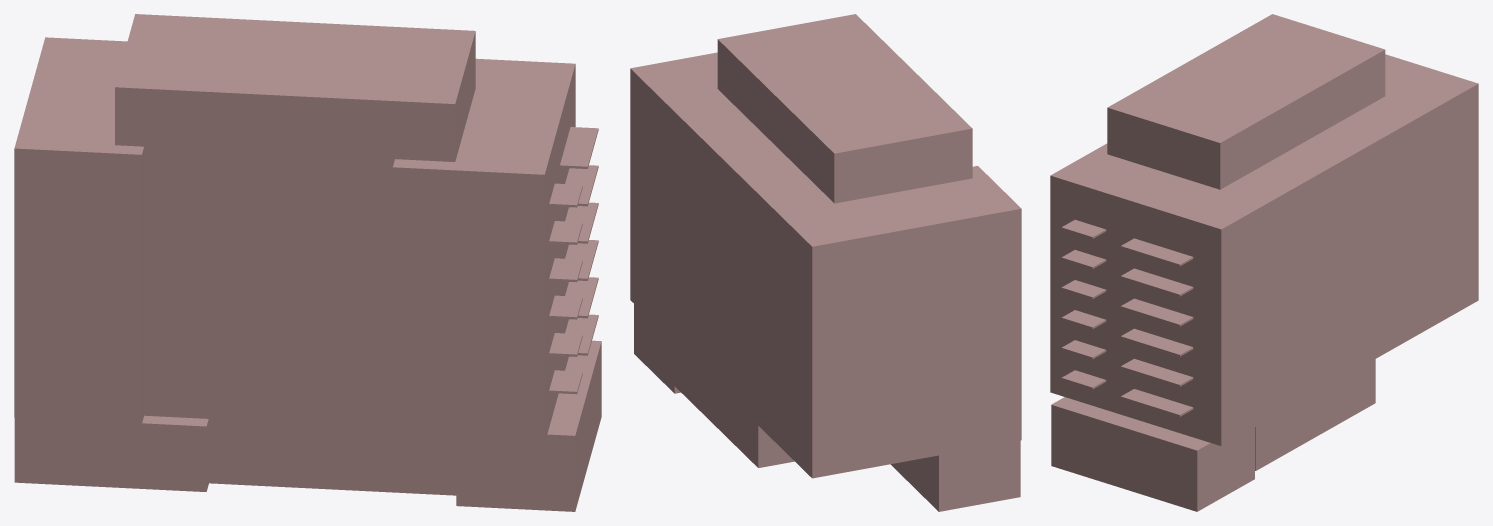
File: 128-lakeshore-current-plan.glb
3 views of the same model, side by side, from view 1: azimuth 30°, elevation 25°; view 2: azimuth 150°, elevation 25°; view 3: azimuth 270°, elevation 25° (orthographic). The views are drawn at different scales.
Parts seen in each view (by area): view 1: wf-128-residential-levels2-8, wf-128-mechanical-and-amenity, wf-128-lobby-ground, wf-128-north-ground-core, wf-128-retail-ground, wf-128-terrace-8-south, wf-128-terrace-7-south, wf-128-terrace-3-south, wf-128-terrace-4-south, wf-128-terrace-6-south, wf-128-terrace-5-south, wf-128-terrace-5-north (+5 smaller); view 2: wf-128-residential-levels2-8, wf-128-mechanical-and-amenity, wf-128-north-ground-core, wf-128-lobby-ground, wf-128-retail-ground; view 3: wf-128-residential-levels2-8, wf-128-mechanical-and-amenity, wf-128-retail-ground, wf-128-lobby-ground, wf-128-terrace-7-south, wf-128-terrace-4-south, wf-128-terrace-5-south, wf-128-terrace-6-south, wf-128-terrace-3-south, wf-128-terrace-8-south, wf-128-terrace-4-north, wf-128-terrace-8-north (+4 smaller).
Boxes of the visible parts, x1,y1,x2,y2 form: wf-128-residential-levels2-8: (14,37,575,443); wf-128-mechanical-and-amenity: (115,14,475,161); wf-128-lobby-ground: (209,419,456,495); wf-128-north-ground-core: (14,415,208,491); wf-128-retail-ground: (456,340,601,511); wf-128-terrace-8-south: (560,127,598,168); wf-128-terrace-7-south: (565,165,598,206); wf-128-terrace-3-south: (565,314,598,355); wf-128-terrace-4-south: (565,277,598,318); wf-128-terrace-6-south: (565,202,598,243); wf-128-terrace-5-south: (565,240,598,280); wf-128-terrace-5-north: (549,295,582,319); wf-128-residential-levels2-8: (630,52,1021,478); wf-128-mechanical-and-amenity: (717,14,972,203); wf-128-north-ground-core: (891,440,1020,511); wf-128-lobby-ground: (673,343,794,467); wf-128-retail-ground: (634,304,680,393); wf-128-residential-levels2-8: (1050,54,1478,446); wf-128-mechanical-and-amenity: (1107,14,1385,189); wf-128-retail-ground: (1051,397,1254,511); wf-128-lobby-ground: (1255,359,1375,470); wf-128-terrace-7-south: (1120,268,1193,296); wf-128-terrace-4-south: (1120,358,1193,386); wf-128-terrace-5-south: (1120,328,1193,356); wf-128-terrace-6-south: (1120,298,1193,326); wf-128-terrace-3-south: (1120,389,1193,416); wf-128-terrace-8-south: (1120,238,1193,266); wf-128-terrace-4-north: (1061,340,1106,359); wf-128-terrace-8-north: (1061,219,1106,238).
Size of the model in its own units: 42.17 by 31.31 by 37.41.
